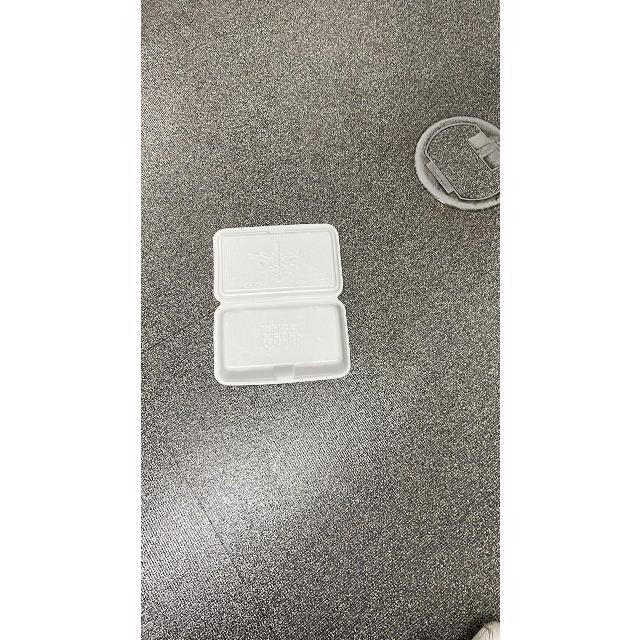Recipiente plastico: (212, 225, 350, 385)
